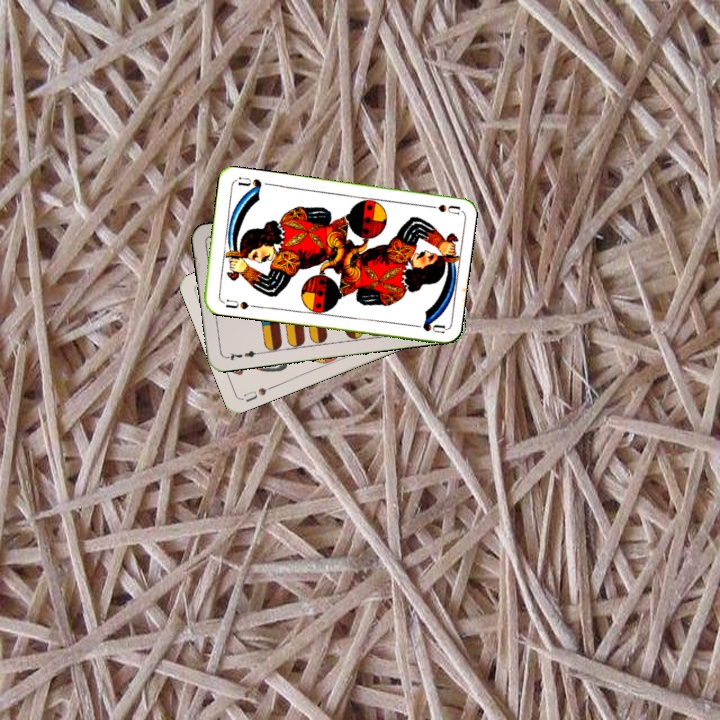E7: (222, 346, 262, 363)
SU: (238, 381, 277, 405), (420, 200, 461, 217), (221, 295, 258, 312)
